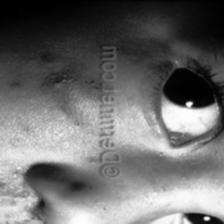Toxin: (36, 45, 94, 119), (0, 158, 40, 224)
